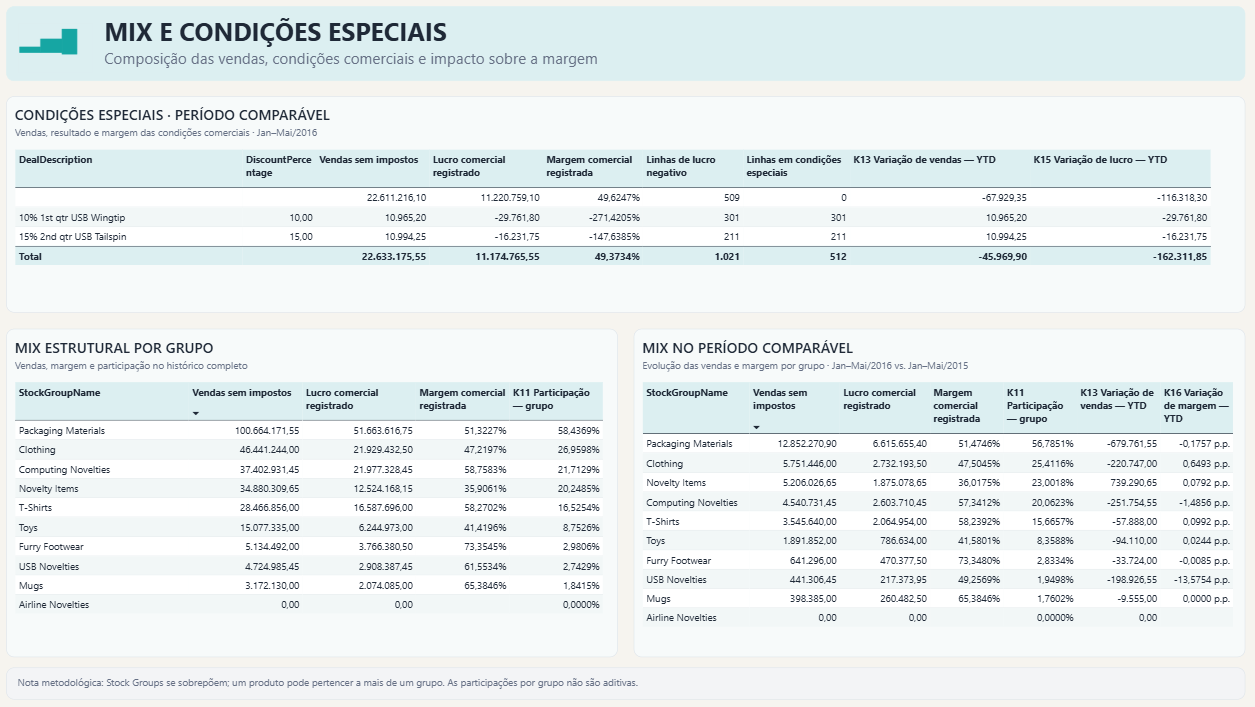

The page's visual inventory and layout, read from the dashboard file:
{"tool":"powerbi","page":{"name":"07_Q07_Mix_Especiais","canvas":[1920,1080],"ordinal":7},"visuals":[{"type":"tableEx","title":"CONDIÇÕES ESPECIAIS · PERÍODO COMPARÁVEL","fields":{"Values":["DimSpecialDeal.DealDescription","DimSpecialDeal.DiscountPercentage","_Medidas.Vendas sem impostos","_Medidas.Lucro comercial registrado","_Medidas.Margem comercial registrada","_Medidas.Linhas de lucro negativo","_Medidas.Linhas em condições especiais","_Medidas.K13 Variação de vendas — YTD","_Medidas.K15 Variação de lucro — YTD"]},"box":[32,152,1856,324],"z":0},{"type":"tableEx","title":"MIX ESTRUTURAL POR GRUPO","fields":{"Values":["DimStockGroup.StockGroupName","_Medidas.Vendas sem impostos","_Medidas.Lucro comercial registrado","_Medidas.Margem comercial registrada","_Medidas.K11 Participação — grupo"]},"box":[32,500,916,492],"z":1000},{"type":"tableEx","title":"MIX NO PERÍODO COMPARÁVEL","fields":{"Values":["DimStockGroup.StockGroupName","_Medidas.Vendas sem impostos","_Medidas.Lucro comercial registrado","_Medidas.Margem comercial registrada","_Medidas.K11 Participação — grupo","_Medidas.K13 Variação de vendas — YTD","_Medidas.K16 Variação de margem — YTD"]},"box":[972,500,916,492],"z":2000},{"type":"textbox","box":[32,16,1856,112],"z":10000},{"type":"textbox","box":[50.6,43.1,110.5,73],"z":11000},{"type":"textbox","box":[32,1008,1856,48],"z":12000}]}

Visuals, with their boxes in screenshot pixels (x1, y1, x2, y2), scaled from the page's 1920x1080 canvas onto the 1255x707 screenshot:
"CONDIÇÕES ESPECIAIS · PERÍODO COMPARÁVEL" tableEx: [21, 100, 1234, 312]
"MIX ESTRUTURAL POR GRUPO" tableEx: [21, 327, 620, 649]
"MIX NO PERÍODO COMPARÁVEL" tableEx: [635, 327, 1234, 649]
textbox: [21, 10, 1234, 84]
textbox: [33, 28, 105, 76]
textbox: [21, 660, 1234, 691]
